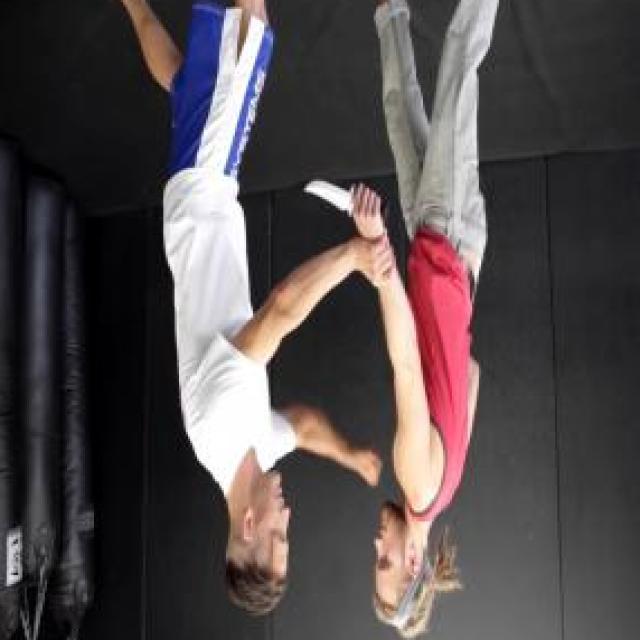knife: (300, 168, 391, 230)
